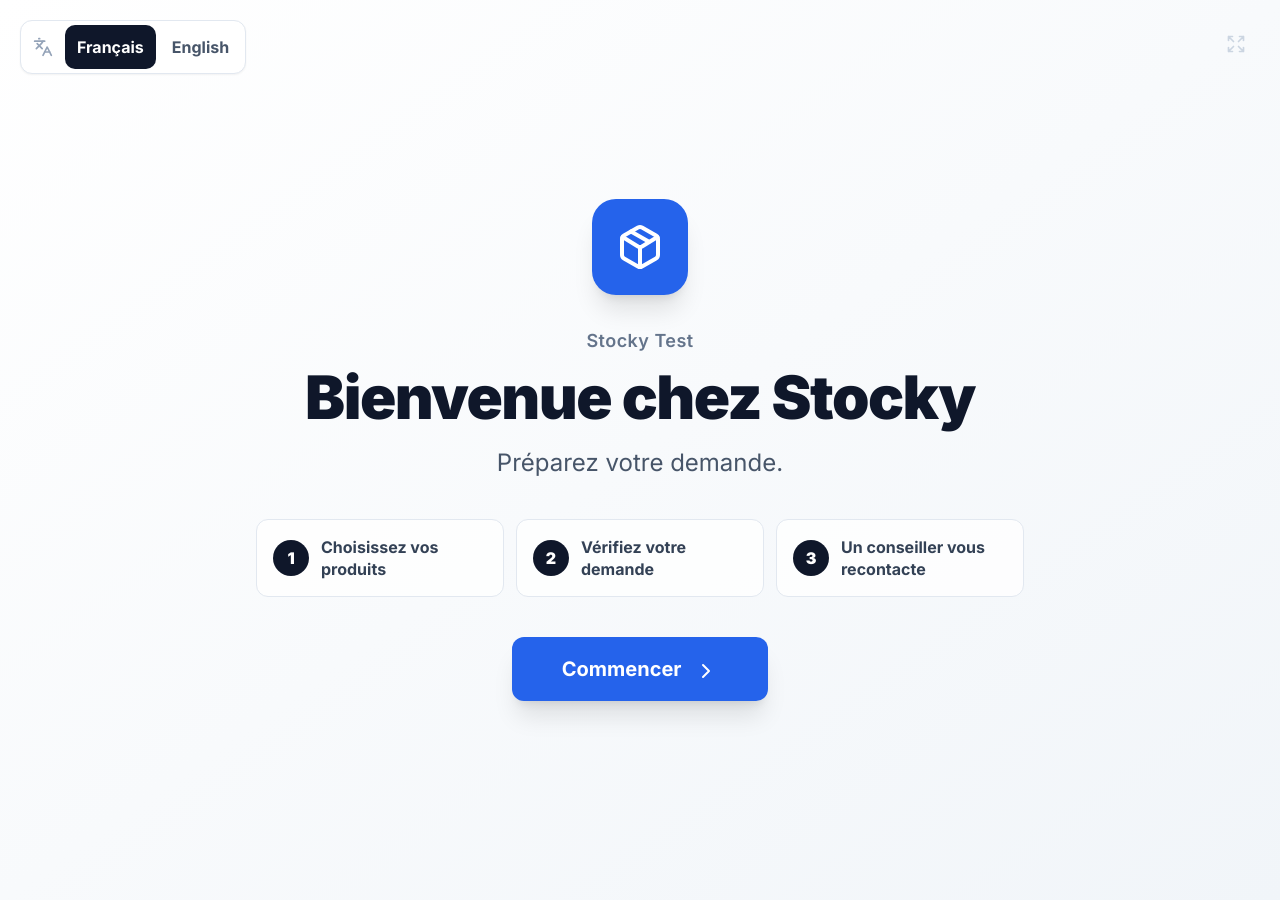
Test: KioskPage › clears an abandoned selection left on the welcome screen
Expected: the heading "Bienvenue chez Stocky" is shown, x1=305 y1=367 x2=975 y2=427
What coordinates should you click on to do the following:
click the button "Commencer"
I would click on:
 (640, 669)
Its box is x1=512 y1=637 x2=768 y2=701.
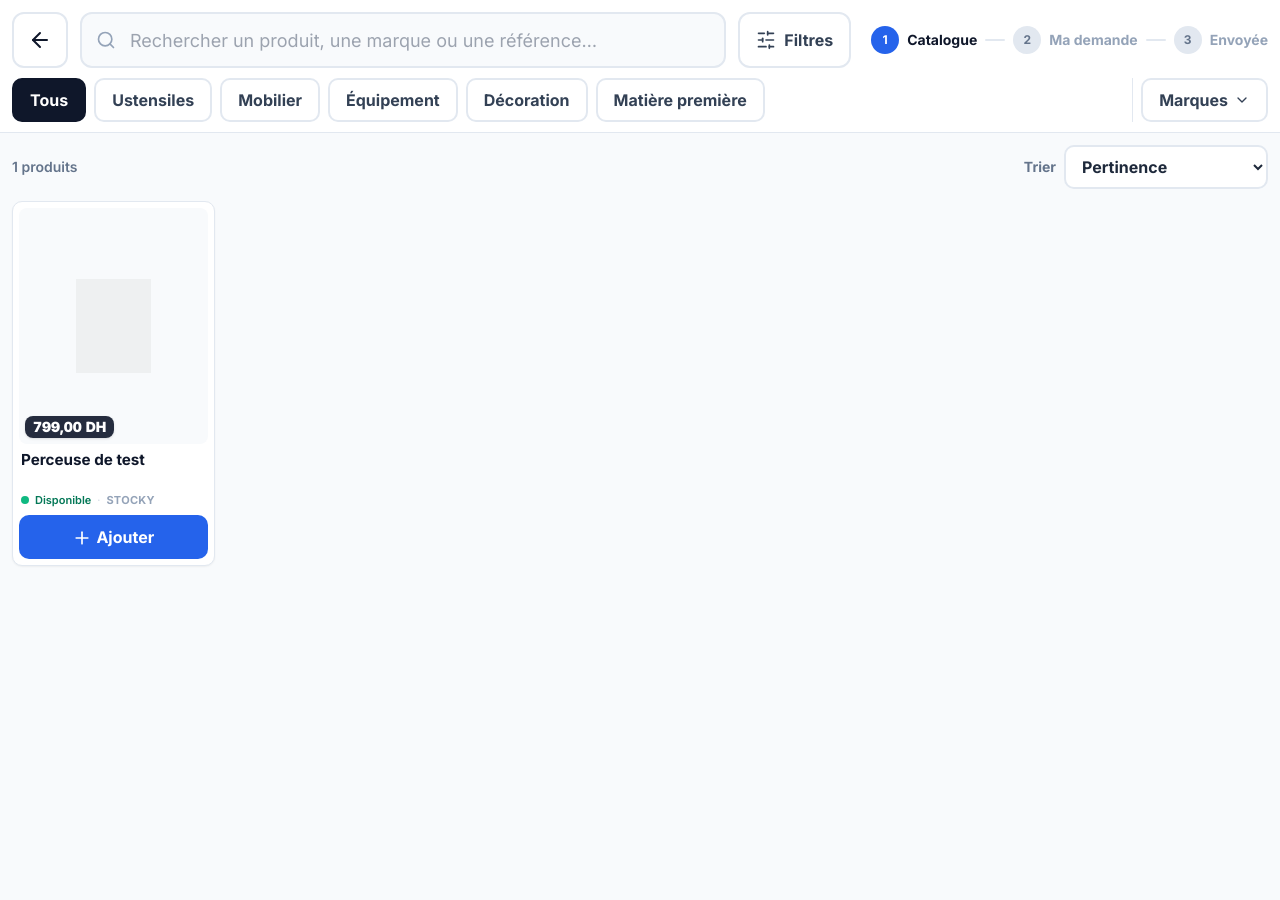
Result: the heading "Perceuse de test" is shown at x1=21 y1=450 x2=145 y2=469
What coordinates should you click on to do the following:
click the button "Ajouter"
I would click on:
 (113, 537)
Its box is x1=19 y1=515 x2=208 y2=559.
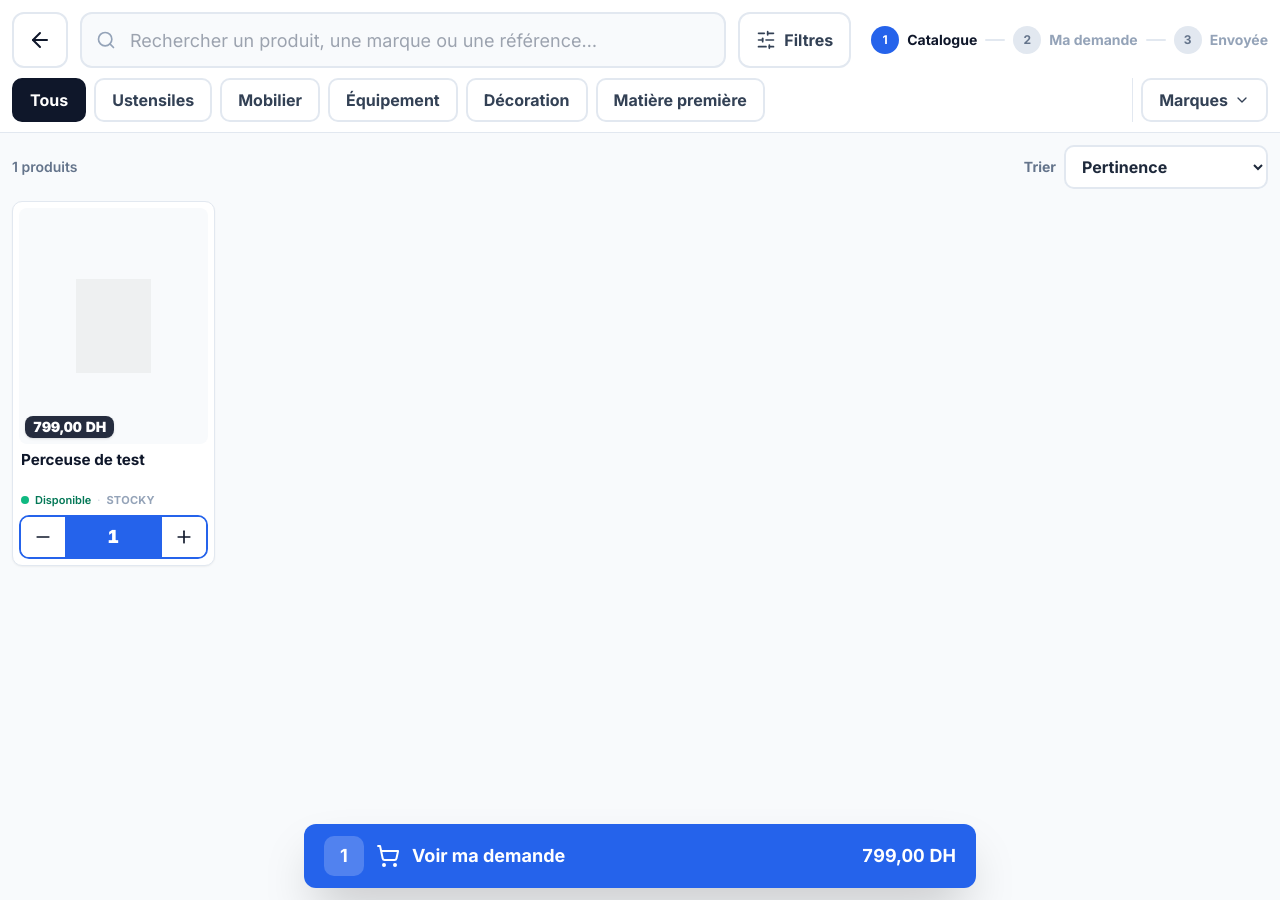
Result: the button "1 Voir ma demande 799,00 DH" is shown at x1=304 y1=824 x2=976 y2=888
The customer taps back and walks away.
What coordinates should you click on to do the following:
click the button named "Accueil"
I would click on:
 (40, 40)
Its box is x1=12 y1=12 x2=68 y2=68.
Wait 61000 ms
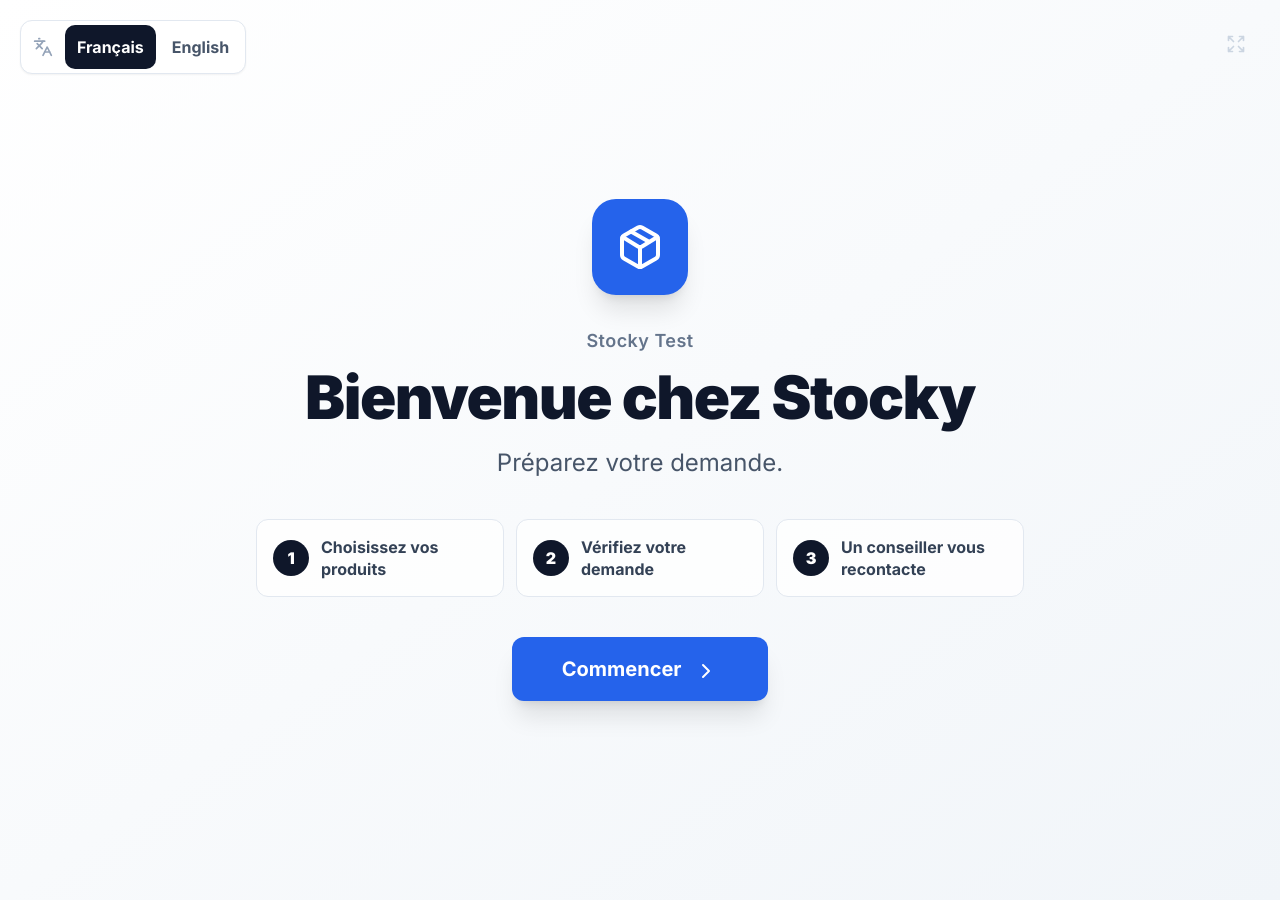
Result: the heading "Bienvenue chez Stocky" is shown at x1=305 y1=367 x2=975 y2=427
What coordinates should you click on to do the following:
click the button "Commencer"
I would click on:
 (640, 669)
Its box is x1=512 y1=637 x2=768 y2=701.
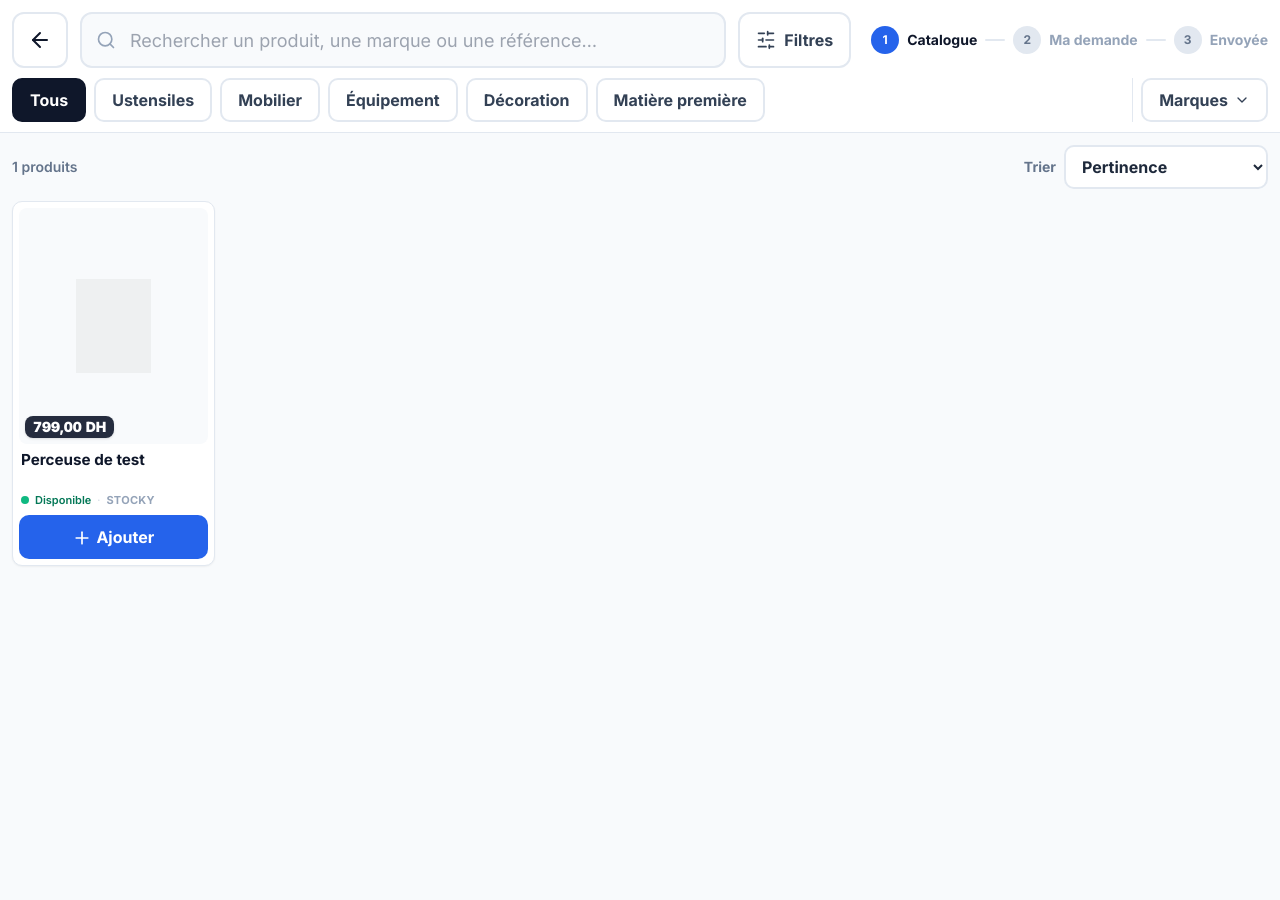
Expected: the button "Voir ma demande" is not shown
Result: the heading "Perceuse de test" is shown at x1=21 y1=450 x2=145 y2=469
